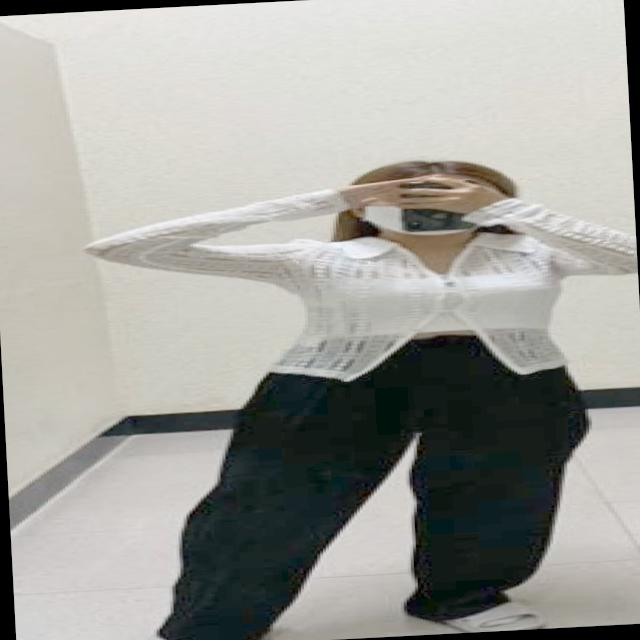cardigan: (82, 174, 640, 401)
slacks: (144, 320, 602, 640)
